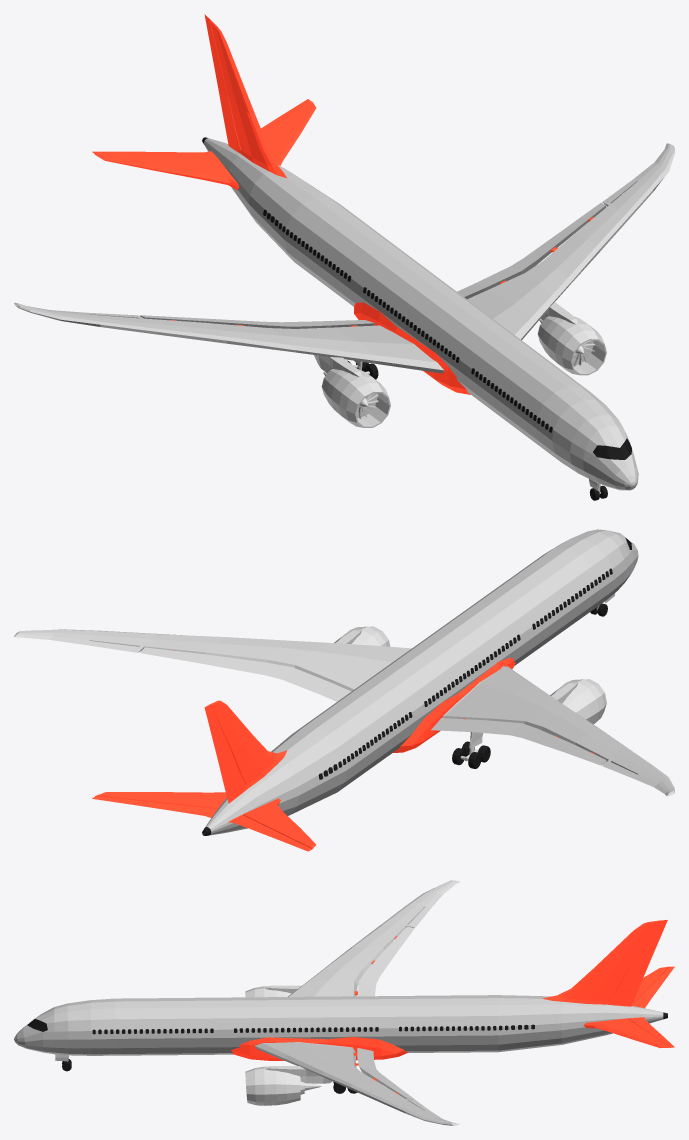
The model's file is boeing_787_dreamliner.glb.
3 renders of one model, top to bottom at view 1: azimuth 30°, elevation 25°; view 2: azimuth 150°, elevation 25°; view 3: azimuth 270°, elevation 25°, orthographic. The views are drawn at different scales.
Parts seen in each view (by area): view 1: Body_Wings, Engines, Horizontal_Stabilizer, Flaps, Rear_Stabilizer, Windows, Fueselage, Elevators, Rear_Rudder; view 2: Body_Wings, Flaps, Horizontal_Stabilizer, Rear_Stabilizer, Engines, Windows, Elevators, Fueselage, Rear_Rudder, REAR_RIGHT_LG_Material.002_0, Ellerons; view 3: Body_Wings, Engines, Rear_Stabilizer, Fueselage, Flaps, Rear_Rudder, Horizontal_Stabilizer, Windows, Elevators.
Part boxes in pixels (x1,y1,x2,y2): Body_Wings: (14,137,674,490); Engines: (314,302,606,427); Horizontal_Stabilizer: (95,101,316,190); Flaps: (140,202,606,328); Rear_Stabilizer: (210,20,286,177); Windows: (263,209,552,432); Fueselage: (354,302,470,394); Elevators: (92,99,311,160); Rear_Rudder: (204,14,240,150); Body_Wings: (14,529,674,835); Flaps: (140,647,606,765); Horizontal_Stabilizer: (95,792,316,849); Rear_Stabilizer: (211,700,287,803); Engines: (334,626,606,724); Windows: (318,568,612,779); Elevators: (92,796,311,851); Fueselage: (393,658,515,752); Rear_Rudder: (204,704,246,802); REAR_RIGHT_LG_Material.002_0: (452,741,490,768); Ellerons: (86,641,637,778); Body_Wings: (14,880,667,1125); Engines: (245,985,332,1105); Rear_Stabilizer: (542,920,658,1006); Fueselage: (231,1037,408,1060); Flaps: (357,926,414,1099); Rear_Rudder: (608,920,667,1006); Horizontal_Stabilizer: (583,966,668,1048); Windows: (92,1024,534,1034); Elevators: (628,966,674,1047).
Bounding box in the file's own units: 60.67 × 17.29 × 69.27.
